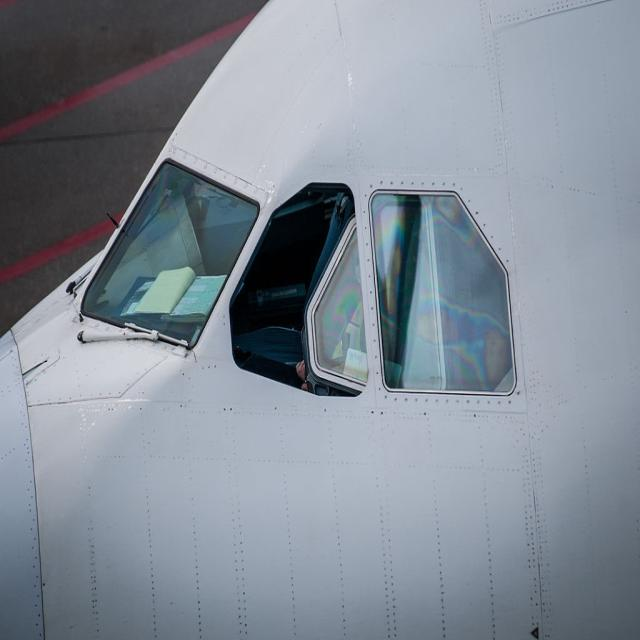Rupture: (189, 352, 201, 365)
